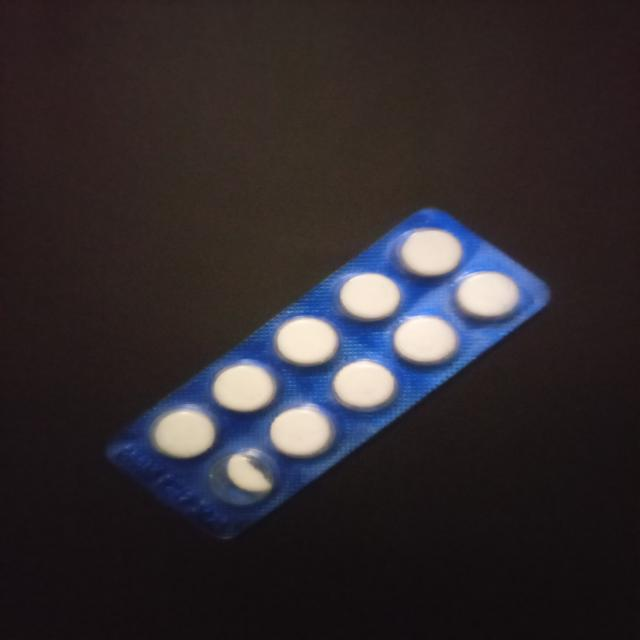defect: (204, 450, 284, 509)
